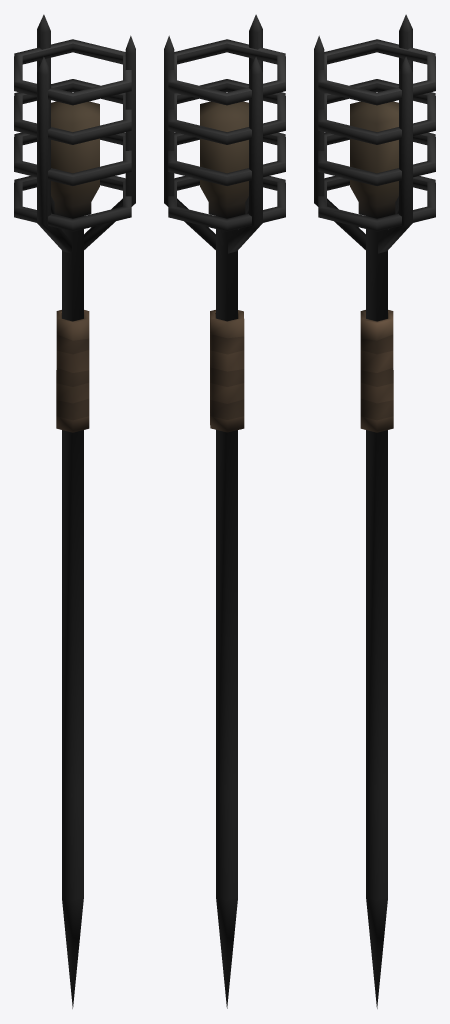
The picture shows the model from 3 angles, left to right: view 1: azimuth 90°, elevation 25°; view 2: azimuth 150°, elevation 25°; view 3: azimuth 270°, elevation 25°; orthographic projection.
Parts seen in each view (by area): view 1: base.048; view 2: base.048; view 3: base.048.
Boxes of the visible parts, x1=… form: base.048: x1=14, y1=14, x2=135, y2=1008; base.048: x1=164, y1=14, x2=285, y2=1008; base.048: x1=314, y1=14, x2=435, y2=1008.
Bounding box in the file's own units: 0.0632 × 0.5 × 0.0567.
